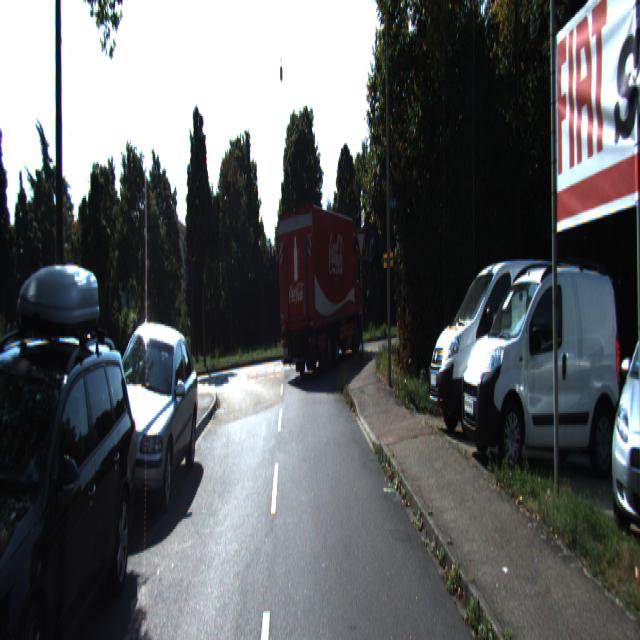Car: (0, 323, 141, 638), (457, 256, 622, 478), (425, 254, 597, 446), (95, 317, 203, 535), (273, 200, 363, 382), (610, 305, 640, 565)
